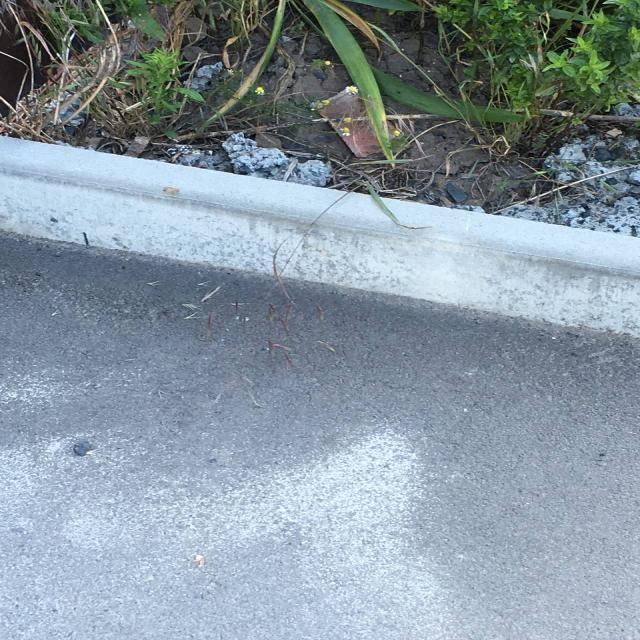bump: (0, 136, 640, 345)
